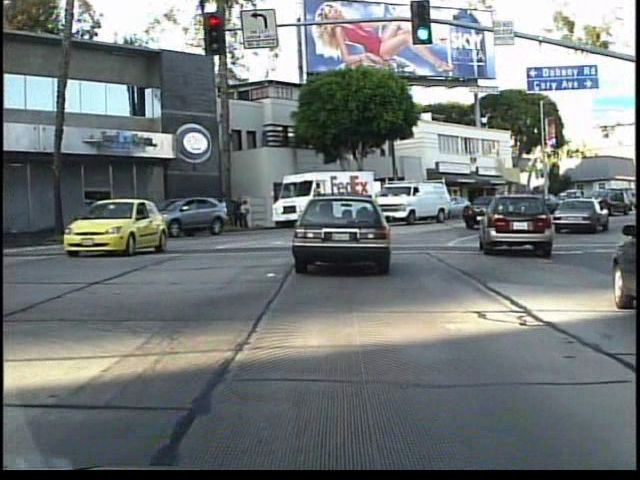person: (240, 200, 254, 232)
